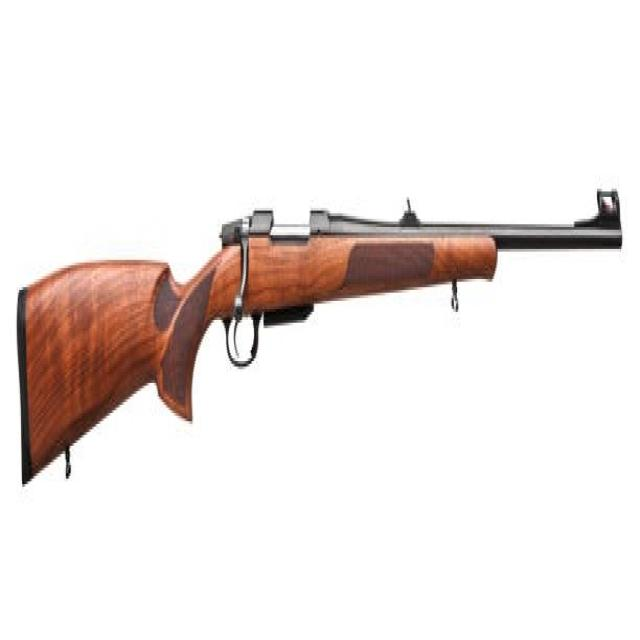rifle: (8, 155, 628, 507)
